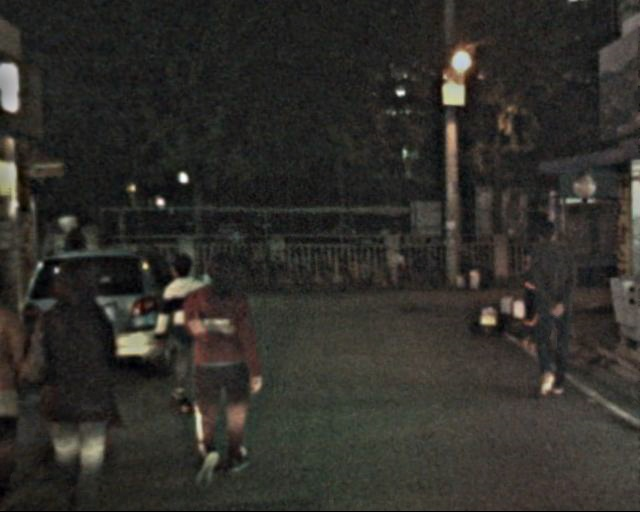person: (27, 247, 129, 508), (166, 244, 259, 486), (512, 208, 581, 406), (144, 241, 209, 422)
